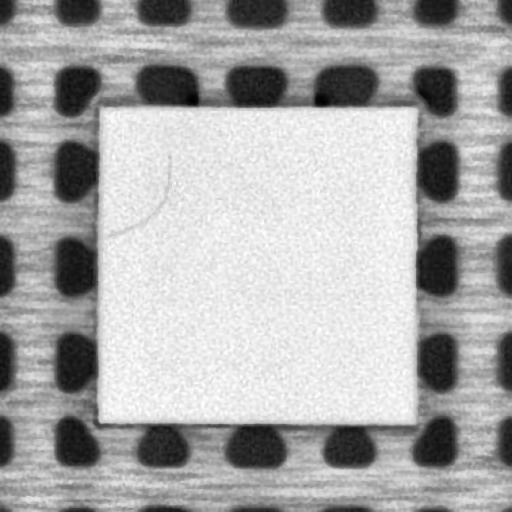DIE_CRACK: (108, 151, 172, 238)
